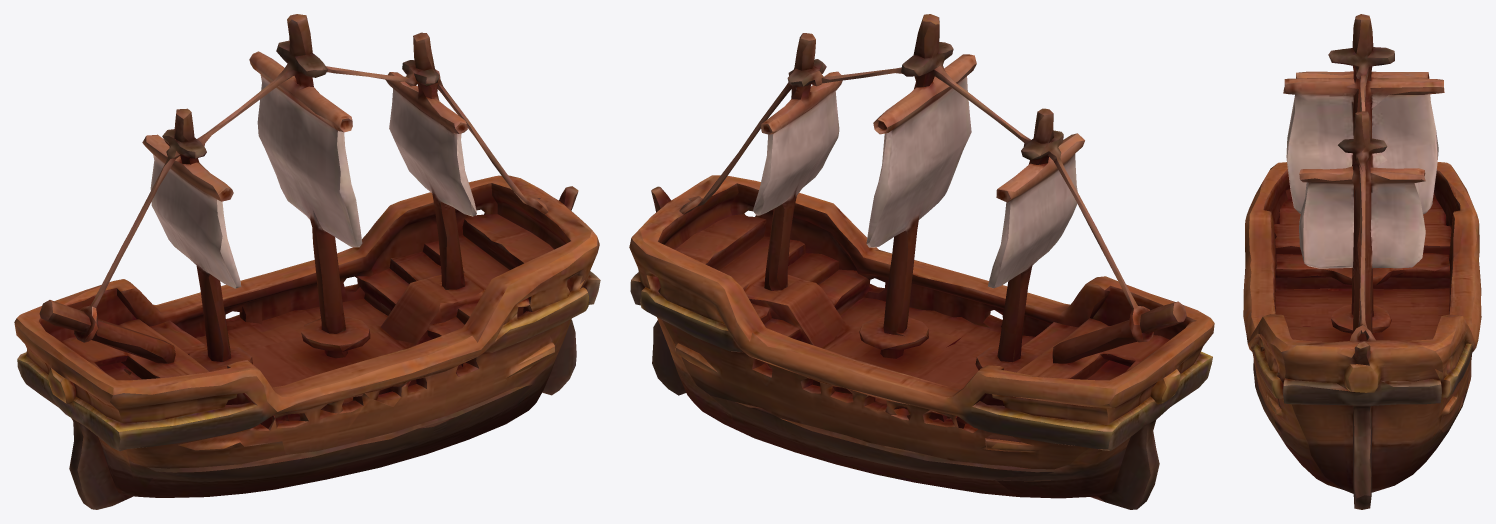
Rendered from lg-ship-wreck.glb.
3 renders of one model, left to right at view 1: azimuth 30°, elevation 25°; view 2: azimuth 150°, elevation 25°; view 3: azimuth 270°, elevation 25°, orthographic. The views are drawn at different scales.
Parts seen in each view (by area): view 1: geometry_0; view 2: geometry_0; view 3: geometry_0.
Boxes of the visible parts, x1=… form: geometry_0: x1=14, y1=14, x2=600, y2=509; geometry_0: x1=629, y1=14, x2=1214, y2=509; geometry_0: x1=1243, y1=14, x2=1481, y2=509.
Size of the model in its own units: 1 by 0.7931 by 0.438.
1 material, 1 textured.
